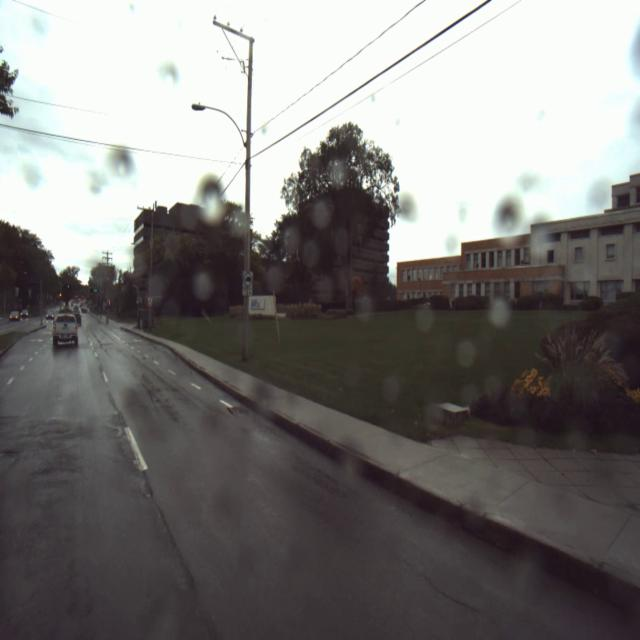car: (52, 315, 78, 351), (72, 310, 82, 328), (9, 311, 20, 321), (21, 310, 29, 320)
trafficLight: (58, 292, 62, 298)
trafficLight-Green: (92, 288, 98, 294), (66, 284, 70, 289)
trafficLight-Red: (75, 295, 79, 299), (81, 294, 84, 298)
